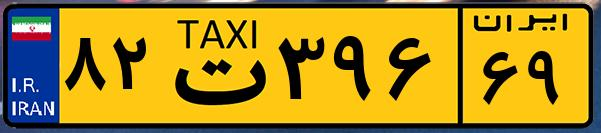2: (110, 28, 158, 98)
3: (270, 28, 330, 110)
6: (385, 28, 445, 110), (475, 38, 525, 113)
8: (57, 26, 110, 100)
9: (330, 28, 385, 110), (525, 38, 570, 115)
ت: (158, 12, 270, 120)
